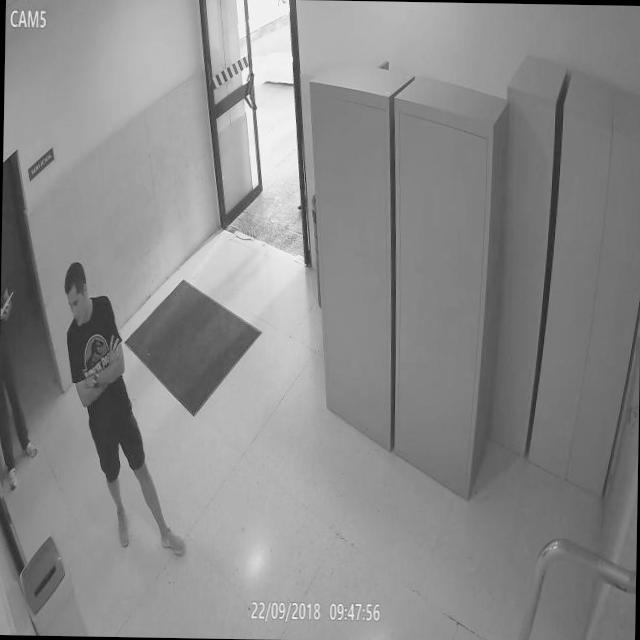person: (52, 248, 192, 589)
